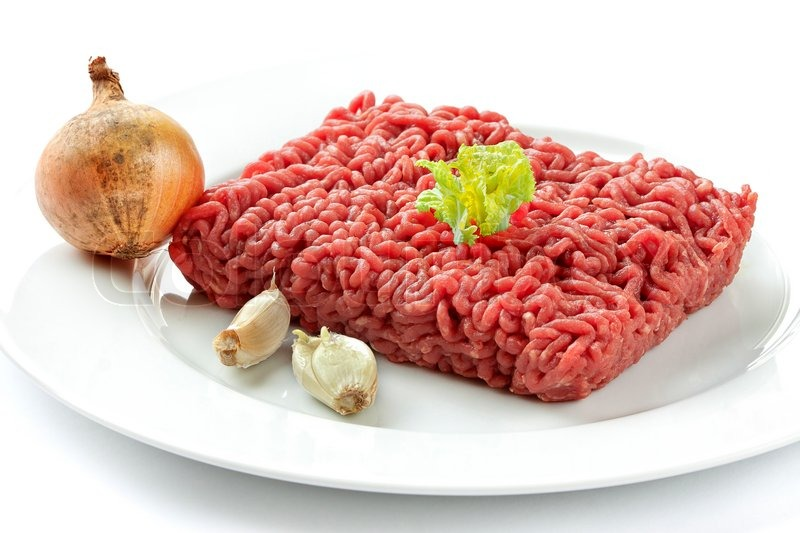ground_beef: (181, 60, 757, 434)
